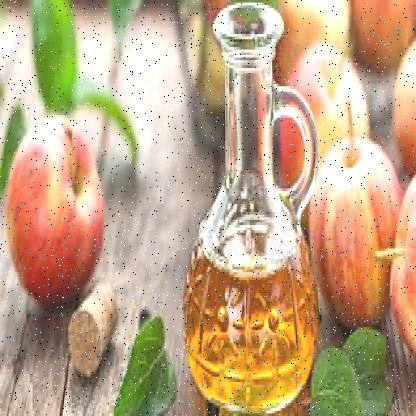apple: (2, 120, 104, 296), (308, 139, 400, 327), (284, 42, 382, 199)
